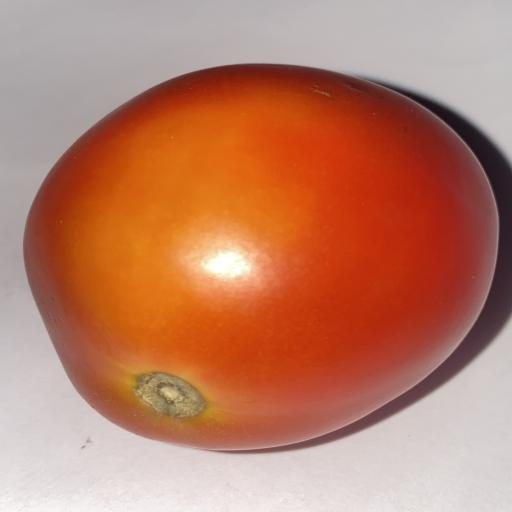ripe: (24, 64, 498, 450)
